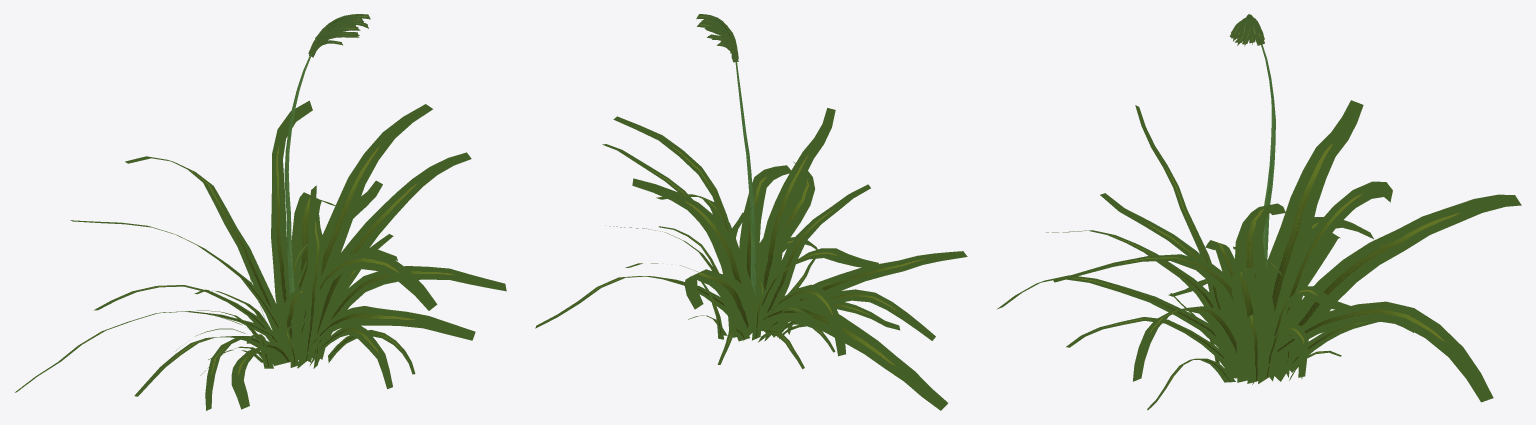
Rendered from plant1.FBX.
The picture shows the model from 3 angles, left to right: view 1: azimuth 30°, elevation 25°; view 2: azimuth 150°, elevation 25°; view 3: azimuth 270°, elevation 25°; orthographic projection. The views are drawn at different scales.
Parts seen in each view (by area): view 1: plant1_LOD0; view 2: plant1_LOD0; view 3: plant1_LOD0.
Boxes of the visible parts, x1=… form: plant1_LOD0: x1=15, y1=14, x2=506, y2=410; plant1_LOD0: x1=535, y1=14, x2=967, y2=410; plant1_LOD0: x1=997, y1=14, x2=1521, y2=410.
Size of what is drawn, in the model's own units: 0.5577 by 0.4325 by 0.5334.
